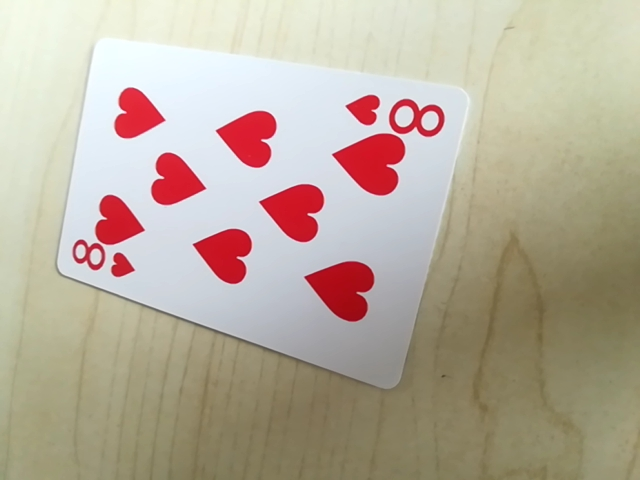hx 8: (344, 90, 451, 137), (67, 238, 136, 283)
